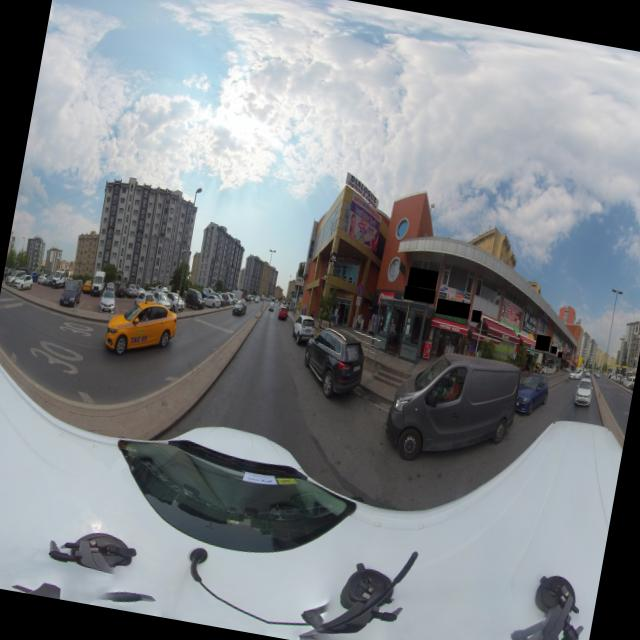SignStore: (435, 298, 470, 319), (407, 268, 438, 290), (403, 285, 435, 304), (536, 334, 550, 351), (471, 309, 481, 322), (550, 346, 556, 354), (557, 351, 562, 358)
